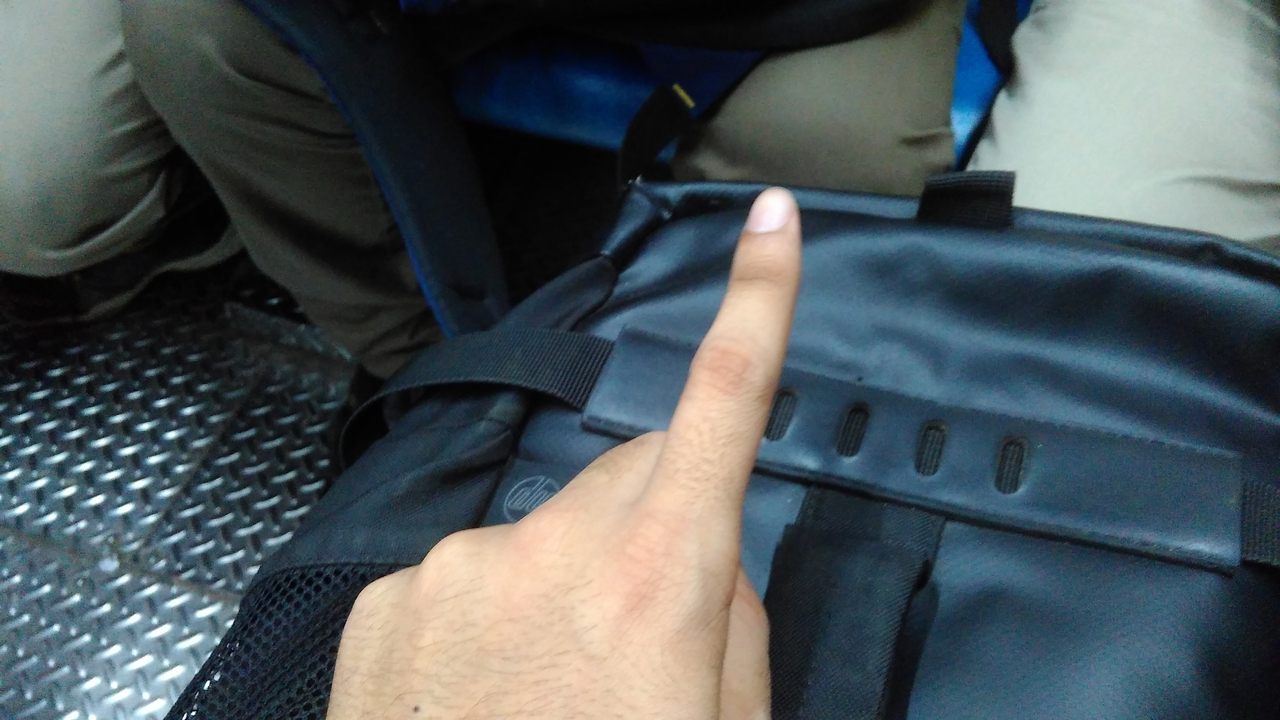fingertip: (736, 176, 812, 250)
